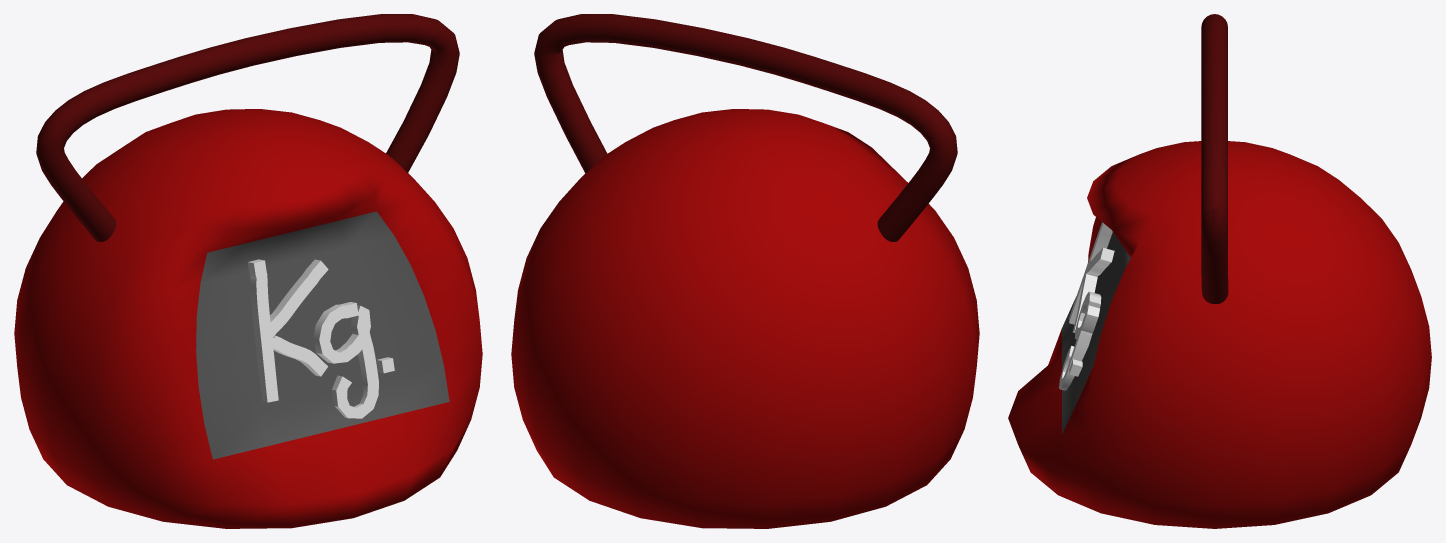
File: Masa1.fbx
3 views of the same model, side by side, from view 1: azimuth 30°, elevation 25°; view 2: azimuth 150°, elevation 25°; view 3: azimuth 270°, elevation 25° (orthographic). The views are drawn at different scales.
Visible parts, largest first — view 1: pSphere1, pCylinder1, pCube3, pCube1, pCube2; view 2: pSphere1, pCylinder1; view 3: pSphere1, pCylinder1, pCube3, pCube2, pCube1.
Part boxes in pixels (<box>): pSphere1: <box>14,109,482,528</box>; pCylinder1: <box>36,14,459,241</box>; pCube3: <box>313,302,378,418</box>; pCube1: <box>247,259,278,402</box>; pCube2: <box>264,259,328,376</box>; pSphere1: <box>511,109,979,528</box>; pCylinder1: <box>534,14,957,241</box>; pSphere1: <box>1008,141,1431,528</box>; pCylinder1: <box>1201,14,1228,304</box>; pCube3: <box>1059,291,1101,390</box>; pCube2: <box>1072,248,1114,332</box>; pCube1: <box>1069,222,1112,324</box>.
Size of the model in its own units: 2.06 by 1.94 by 1.95.
